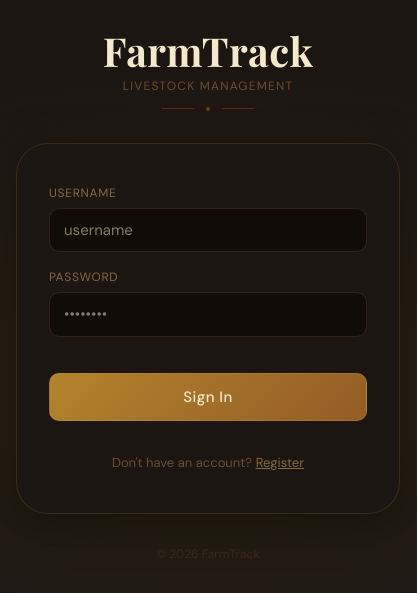
Test: login page — accessibility (P4) + 200-typed-payload flow (P1) › renders the bad-credentials error inside an aria-live region with role="alert"
This screenshot has width=417, height=593.
In the field labelled "Username": (208, 230) [49,208,367,252], type "nobody"
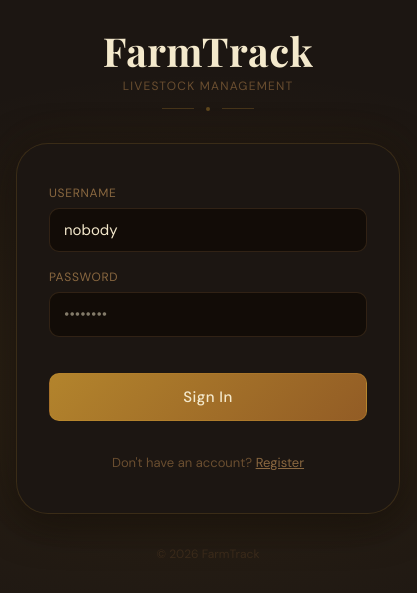
In the password field labelled "Password": (208, 314) [49,292,367,336], type "nope"
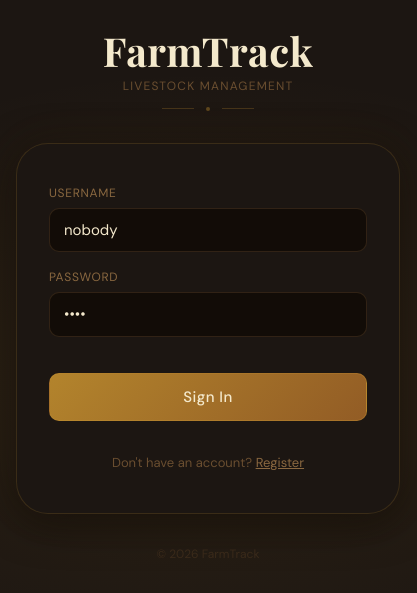
Click the button "Sign In": click(208, 397) [49,372,367,421]
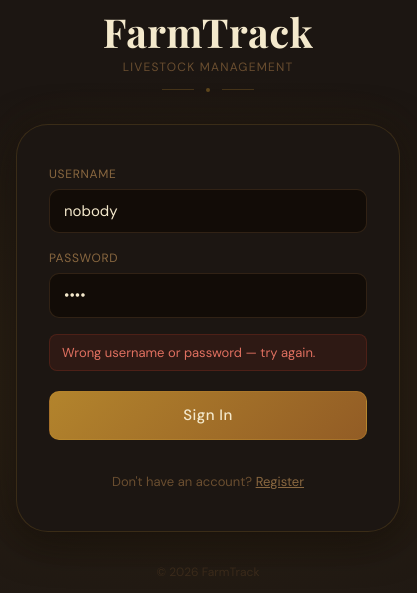
Now the message shows "Wrong username or password", box [62,344,315,361]
